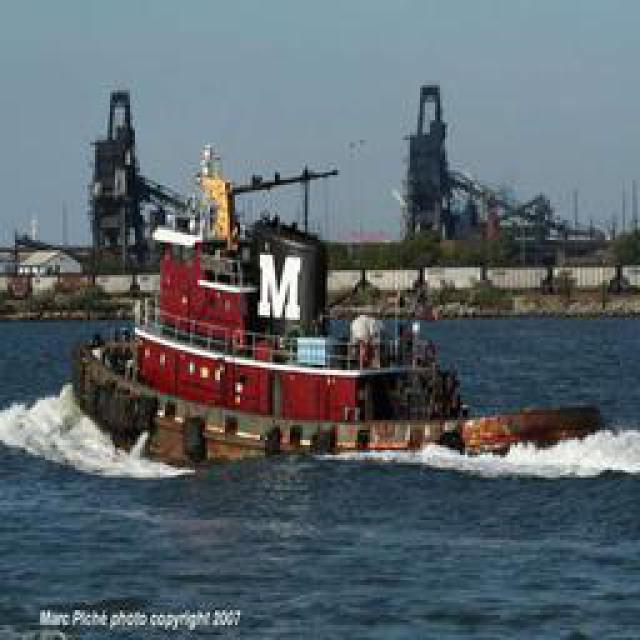Ship: (95, 82, 608, 475)
